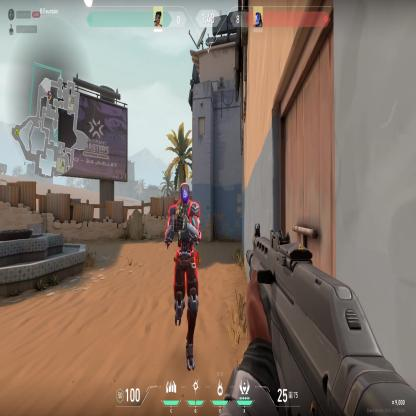enemy: (162, 180, 202, 374)
